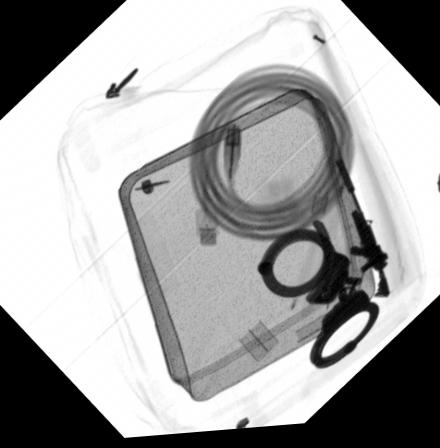Gun: (333, 161, 390, 303)
HandCuffs: (252, 224, 379, 376)
